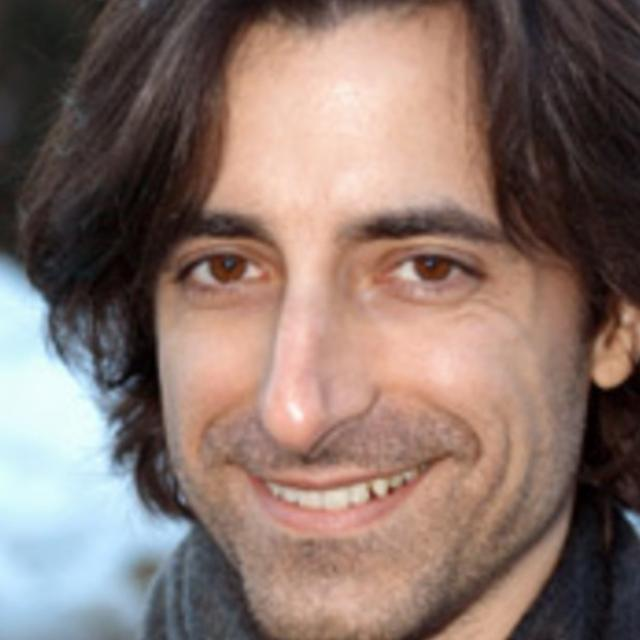Normal: (152, 2, 581, 638)
